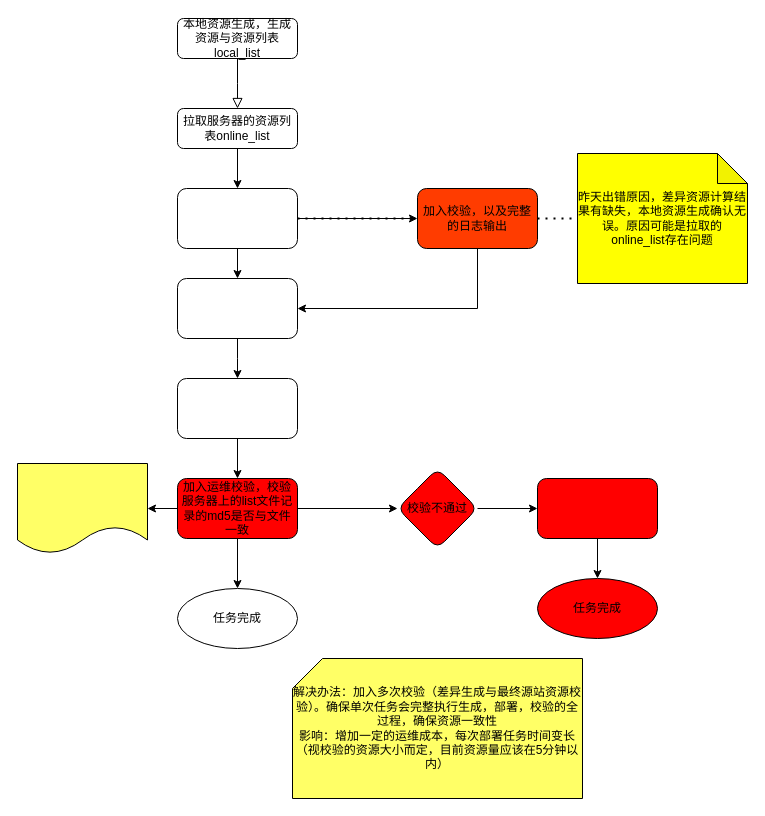
Image size: 765x816. Some labels were removed from this diagram. Here are the shapes that lost their labels. From the top down, the centre of each, then its label:
At [237,218]: "对比资源列表，提取出差异资源".
At [237,308]: "上传差异资源".
At [237,408]: "上传local_list，替换服务器上的list".
At [82,508]: "最新的源站部署方式检验不方便，因此之前运维取消了最终的资源校验，缺少最后一道屏障".
At [597,508]: "全量部署".
